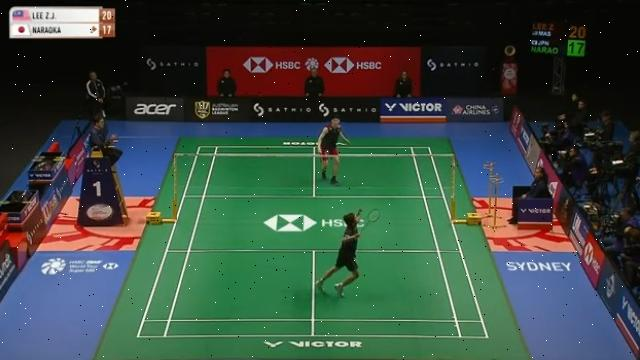Shuttlecock: (408, 150, 420, 160)
